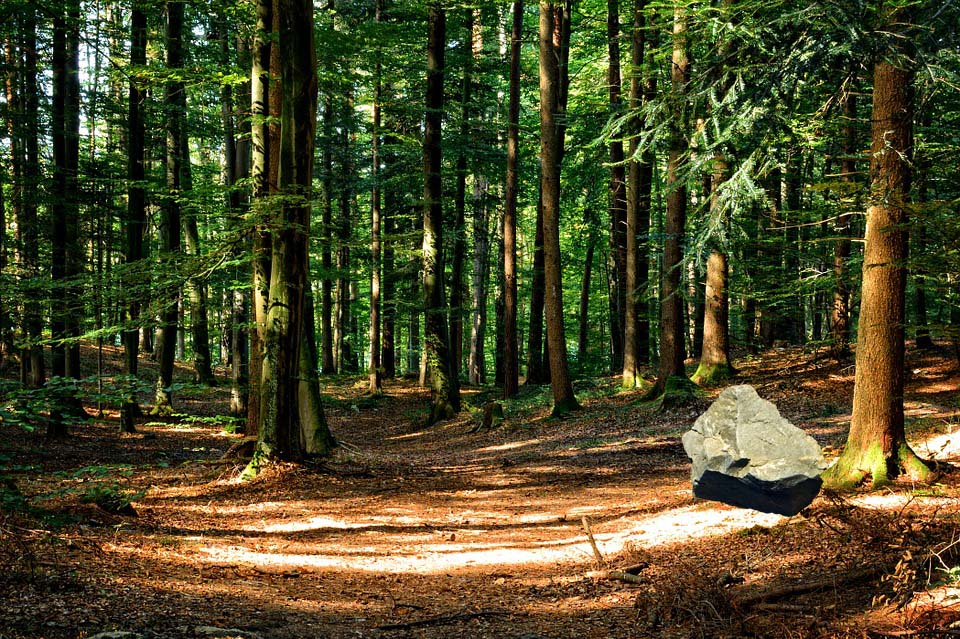Rocks: (675, 379, 825, 523)
